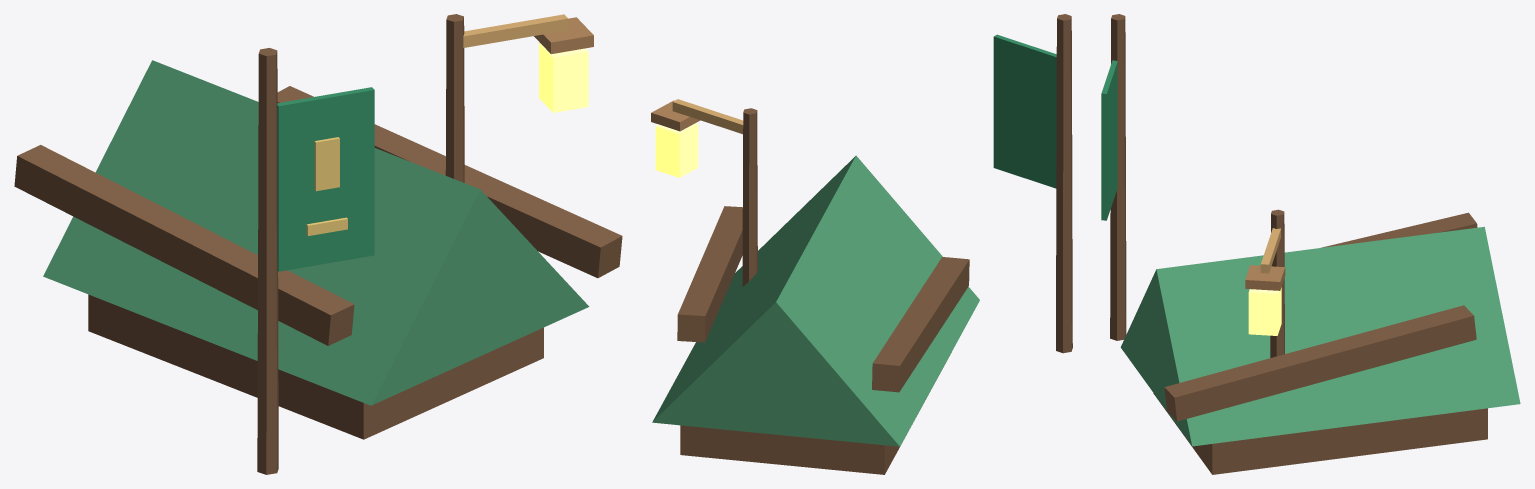
File: elarthalas_greenspire_shelter.glb
The picture shows the model from 3 angles, left to right: view 1: azimuth 30°, elevation 25°; view 2: azimuth 150°, elevation 25°; view 3: azimuth 270°, elevation 25°; orthographic projection. The views are drawn at different scales.
Parts seen in each view (by area): view 1: PREFAB_elarthalas_greenspire_shelter_00_ELAR_WardsAndProps_G, PREFAB_elarthalas_greenspire_shelter_04_ELAR_WardsAndProps_G, PREFAB_elarthalas_greenspire_shelter_02_ELAR_WardsAndProps_G, PREFAB_elarthalas_greenspire_shelter_01_ELAR_WardsAndProps_G, PREFAB_elarthalas_greenspire_shelter_05_ELAR_WardsAndProps_G, PREFAB_elarthalas_greenspire_shelter_03_ELAR_WardsAndProps_G; view 2: PREFAB_elarthalas_greenspire_shelter_00_ELAR_WardsAndProps_G, PREFAB_elarthalas_greenspire_shelter_04_ELAR_WardsAndProps_G, PREFAB_elarthalas_greenspire_shelter_01_ELAR_WardsAndProps_G, PREFAB_elarthalas_greenspire_shelter_05_ELAR_WardsAndProps_G, PREFAB_elarthalas_greenspire_shelter_02_ELAR_WardsAndProps_G, PREFAB_elarthalas_greenspire_shelter_03_ELAR_WardsAndProps_G; view 3: PREFAB_elarthalas_greenspire_shelter_00_ELAR_WardsAndProps_G, PREFAB_elarthalas_greenspire_shelter_03_ELAR_WardsAndProps_G, PREFAB_elarthalas_greenspire_shelter_01_ELAR_WardsAndProps_G, PREFAB_elarthalas_greenspire_shelter_04_ELAR_WardsAndProps_G, PREFAB_elarthalas_greenspire_shelter_05_ELAR_WardsAndProps_G, PREFAB_elarthalas_greenspire_shelter_02_ELAR_WardsAndProps_G.
Part boxes in pixels (x1,y1,x2,y2): PREFAB_elarthalas_greenspire_shelter_00_ELAR_WardsAndProps_G: (43, 60, 589, 405); PREFAB_elarthalas_greenspire_shelter_04_ELAR_WardsAndProps_G: (257, 48, 374, 474); PREFAB_elarthalas_greenspire_shelter_02_ELAR_WardsAndProps_G: (14, 145, 354, 345); PREFAB_elarthalas_greenspire_shelter_01_ELAR_WardsAndProps_G: (88, 294, 543, 439); PREFAB_elarthalas_greenspire_shelter_05_ELAR_WardsAndProps_G: (445, 14, 593, 182); PREFAB_elarthalas_greenspire_shelter_03_ELAR_WardsAndProps_G: (277, 86, 622, 278); PREFAB_elarthalas_greenspire_shelter_00_ELAR_WardsAndProps_G: (652, 155, 979, 446); PREFAB_elarthalas_greenspire_shelter_04_ELAR_WardsAndProps_G: (993, 14, 1072, 353); PREFAB_elarthalas_greenspire_shelter_01_ELAR_WardsAndProps_G: (680, 352, 951, 474); PREFAB_elarthalas_greenspire_shelter_05_ELAR_WardsAndProps_G: (651, 99, 757, 286); PREFAB_elarthalas_greenspire_shelter_02_ELAR_WardsAndProps_G: (872, 257, 969, 392); PREFAB_elarthalas_greenspire_shelter_03_ELAR_WardsAndProps_G: (677, 206, 742, 342); PREFAB_elarthalas_greenspire_shelter_00_ELAR_WardsAndProps_G: (1120, 226, 1520, 446); PREFAB_elarthalas_greenspire_shelter_03_ELAR_WardsAndProps_G: (1164, 305, 1476, 421); PREFAB_elarthalas_greenspire_shelter_01_ELAR_WardsAndProps_G: (1153, 393, 1487, 474); PREFAB_elarthalas_greenspire_shelter_04_ELAR_WardsAndProps_G: (1101, 14, 1126, 340); PREFAB_elarthalas_greenspire_shelter_05_ELAR_WardsAndProps_G: (1245, 209, 1285, 357); PREFAB_elarthalas_greenspire_shelter_02_ELAR_WardsAndProps_G: (1321, 212, 1477, 247).
Size of the model in its own units: 3.15 by 2.99 by 3.42.
